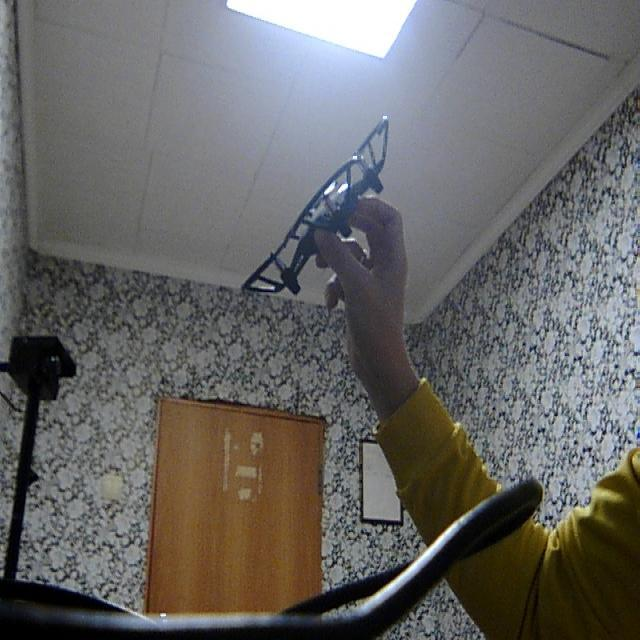drones: (225, 105, 413, 310)
